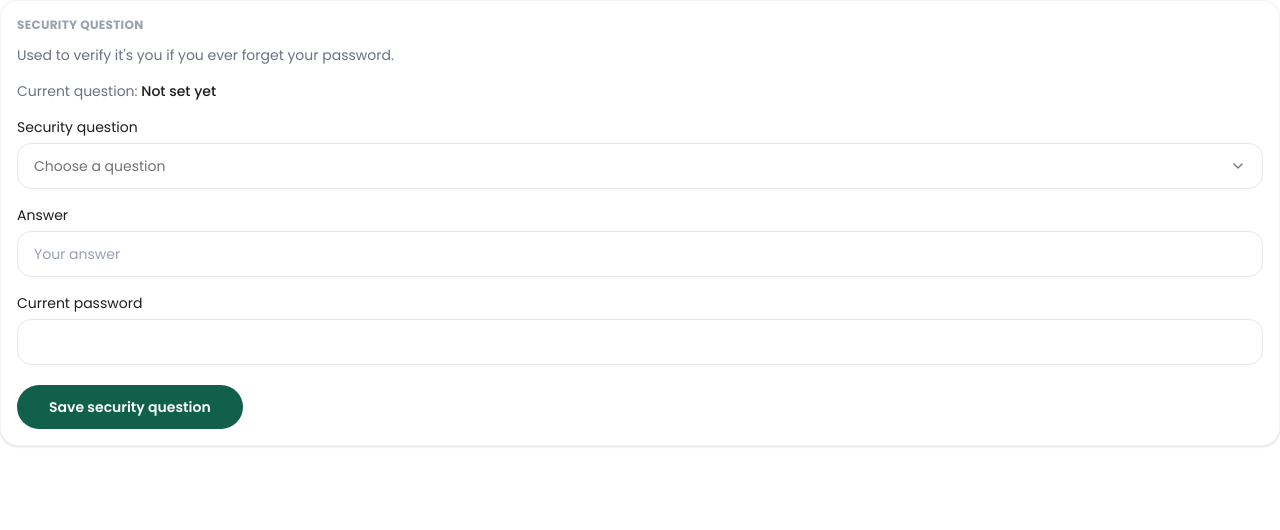
Test case: SecurityQuestionForm › blocks submit with validation errors when the form is empty
Click the button "Save security question": point(130, 407) 17,385 -> 243,429
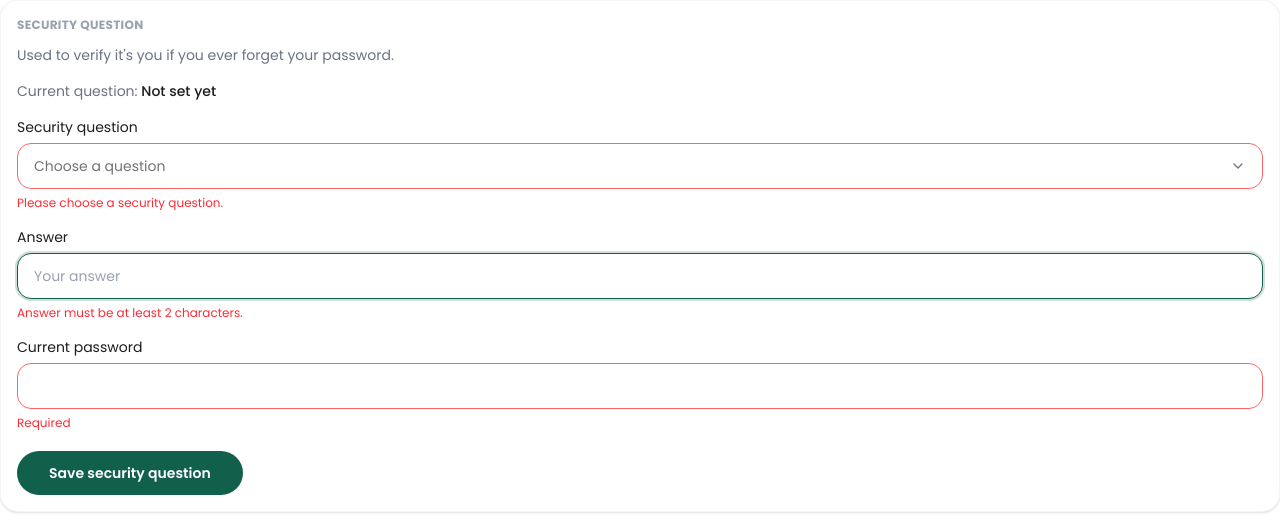
Check: the text "Please choose a security question." is shown, box 17,194 -> 223,211
